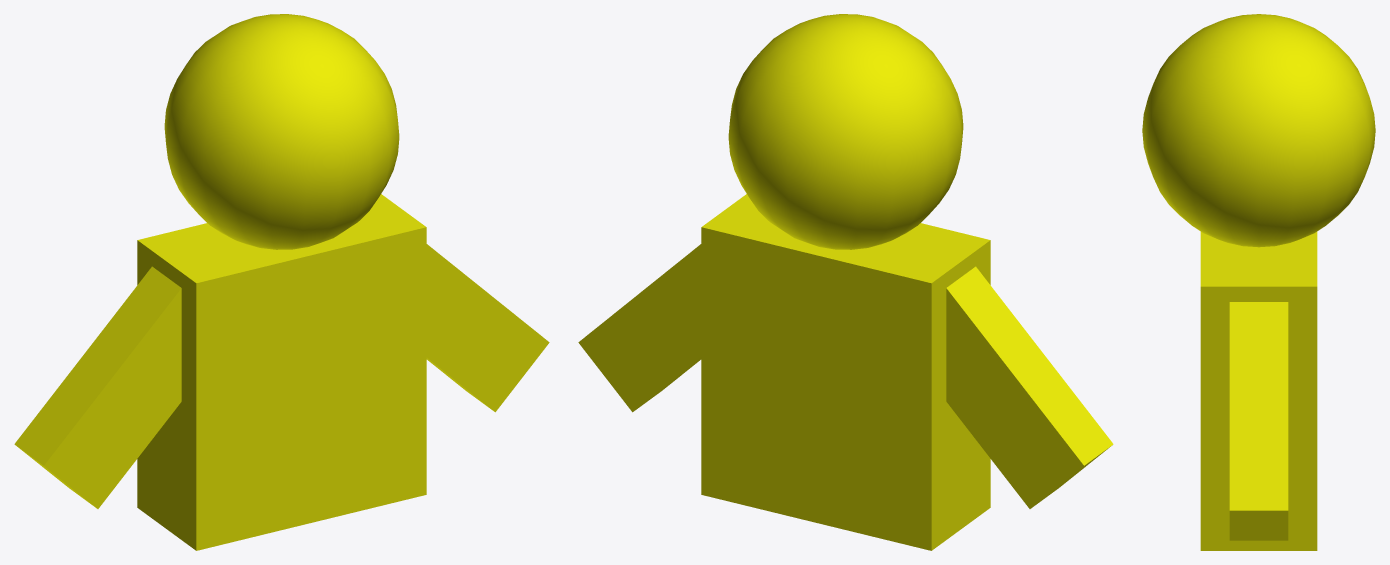
Rendered from Ally.fbx.
3 renders of one model, left to right at view 1: azimuth 30°, elevation 25°; view 2: azimuth 150°, elevation 25°; view 3: azimuth 270°, elevation 25°, orthographic.
Parts seen in each view (by area): view 1: pCube4; view 2: pCube4; view 3: pCube4.
Part boxes in pixels (x1,y1,x2,y2): pCube4: [14, 14, 549, 550]; pCube4: [578, 14, 1113, 550]; pCube4: [1142, 14, 1375, 550].
Size of the model in its own units: 4.94 by 4.45 by 2.
